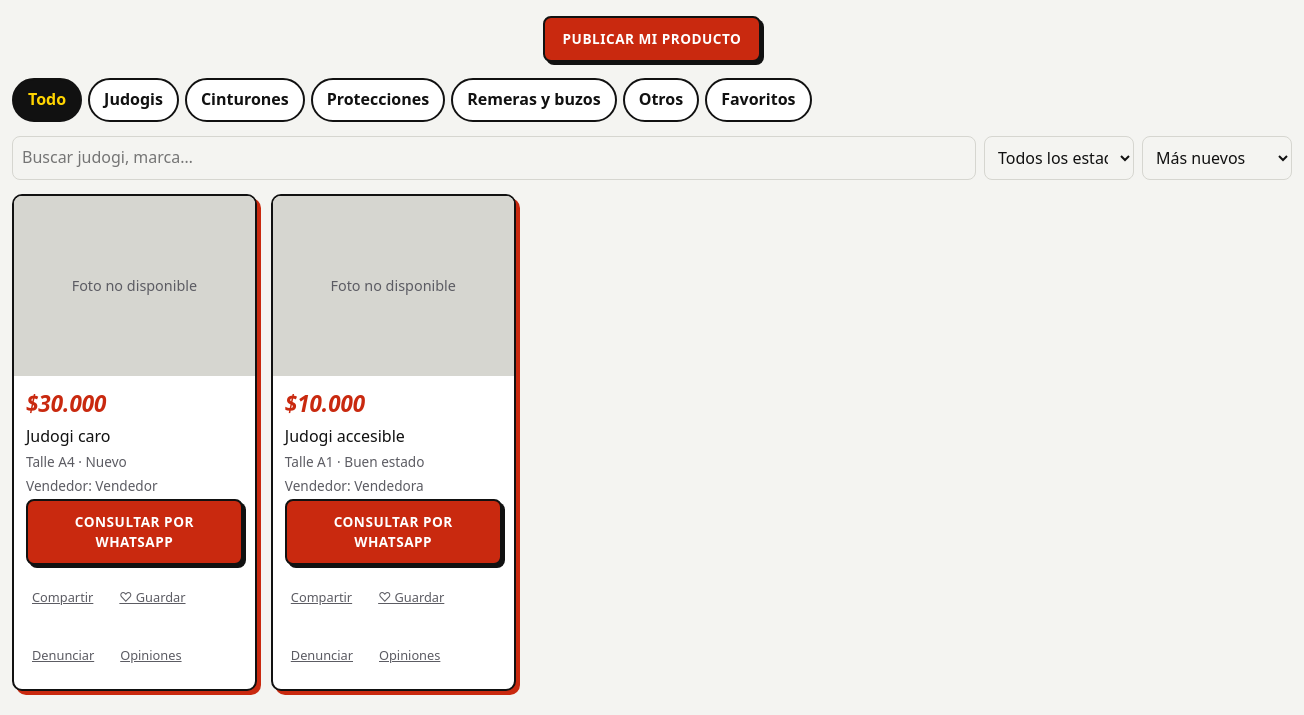
Scenario: ListingGrid › ordena por precio y filtra por talle
Select "Menor precio" in the dropdown named "Ordenar": (1217, 158) [1142,136,1292,180]
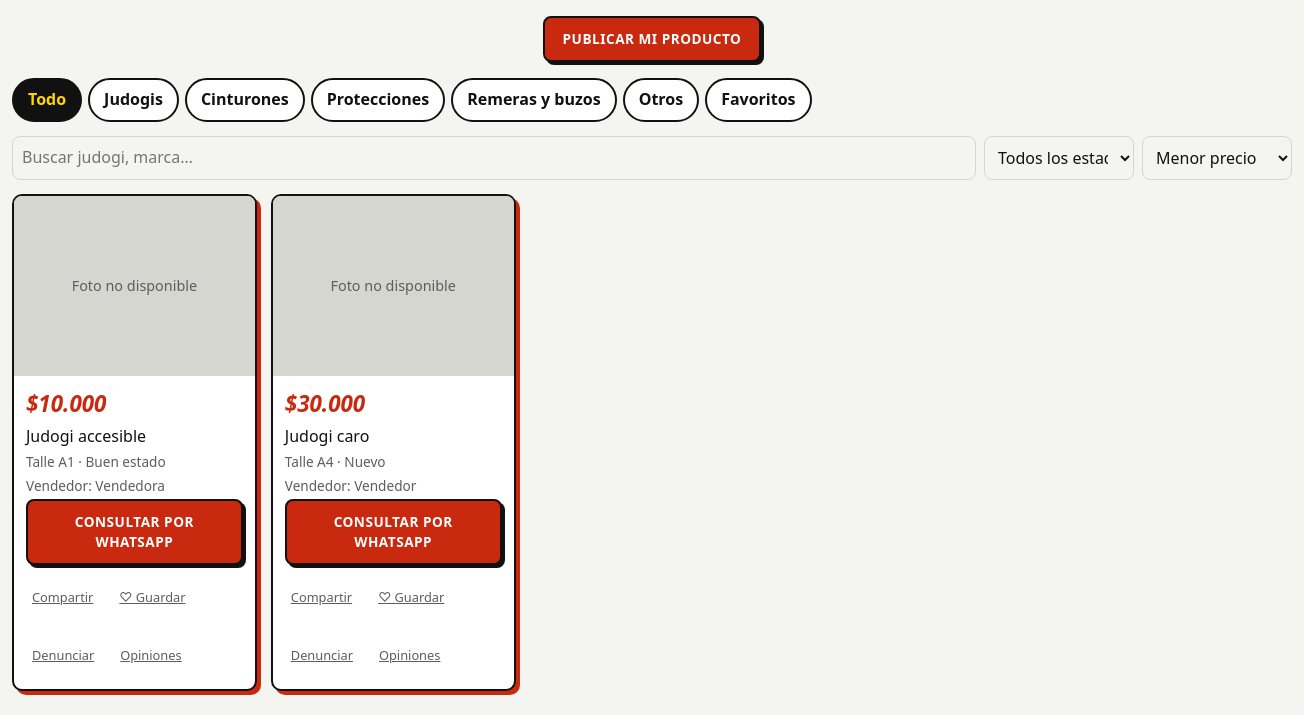
In the search field labelled "Buscar": (494, 158) [12,136,976,180], type "A4"
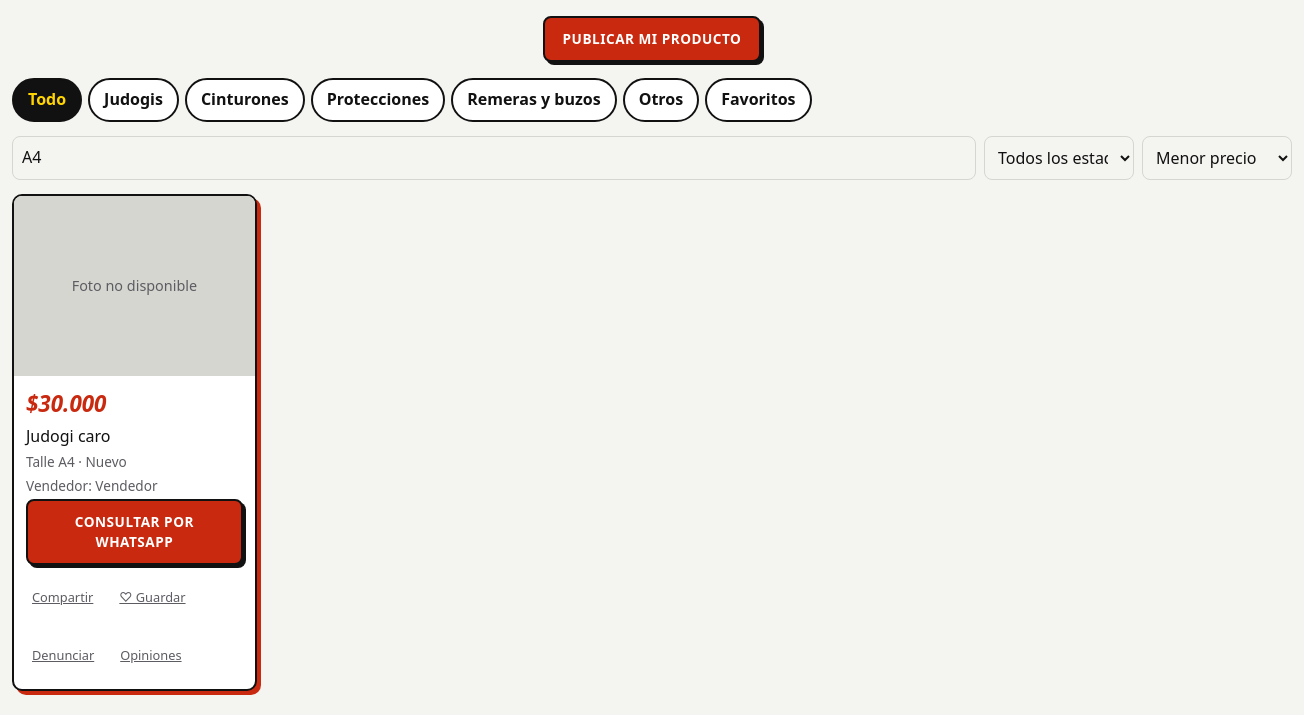
Expected: the text "Judogi caro" is shown, [26,425,110,447]
Now the text "Judogi accesible" is gone
